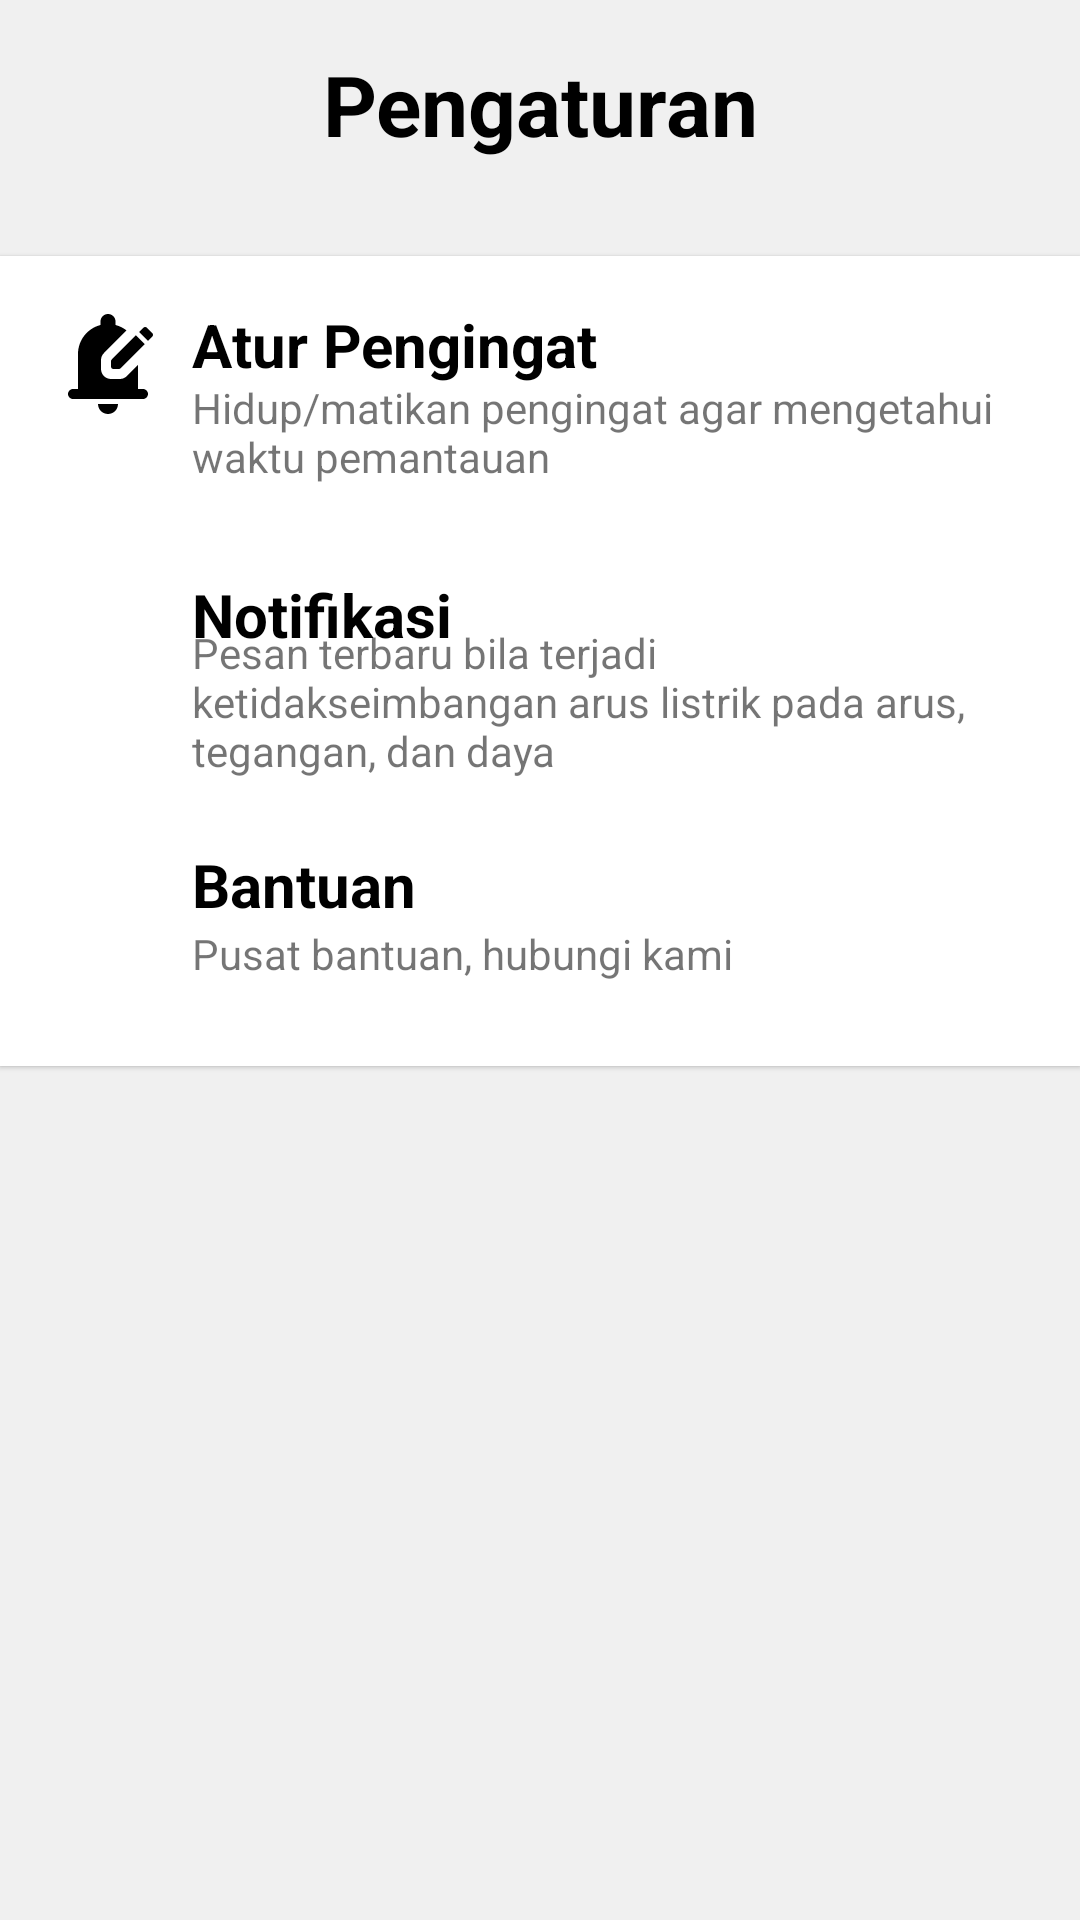

Icon click points for this 1080px×1920px phone screenshot, format [x,y]:
edit notifications: [110,364]
